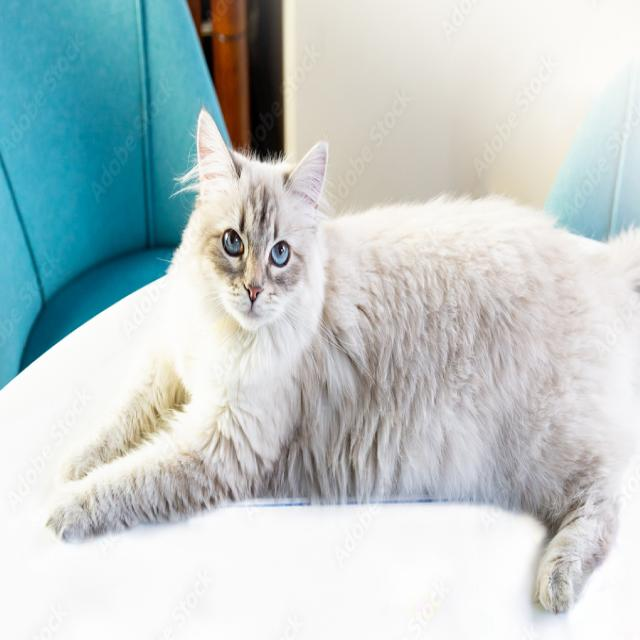Neva Masquerade: (42, 97, 640, 620)
